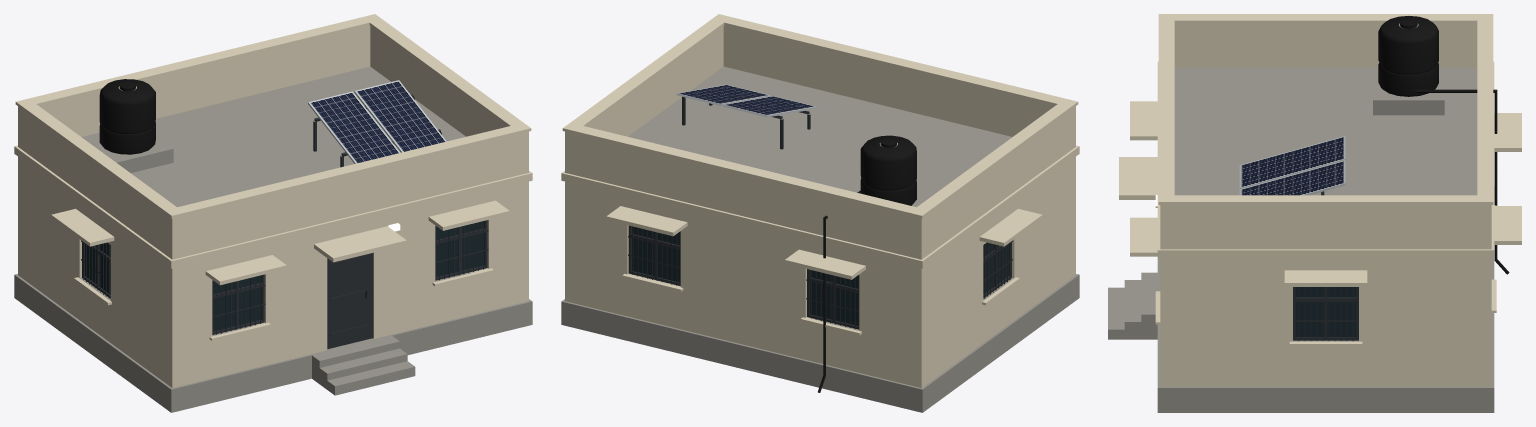
The model's file is office.glb.
3 views of the same model, side by side, from view 1: azimuth 30°, elevation 25°; view 2: azimuth 150°, elevation 25°; view 3: azimuth 270°, elevation 25° (orthographic). The views are drawn at different scales.
Visible parts, largest first — view 1: office; view 2: office; view 3: office.
Part boxes in pixels (x1=…): office: x1=14, y1=14, x2=532, y2=412; office: x1=561, y1=14, x2=1079, y2=412; office: x1=1108, y1=14, x2=1521, y2=412.
Size of the model in its own units: 9.1 by 4.82 by 7.5.
7 materials, 1 textured.
